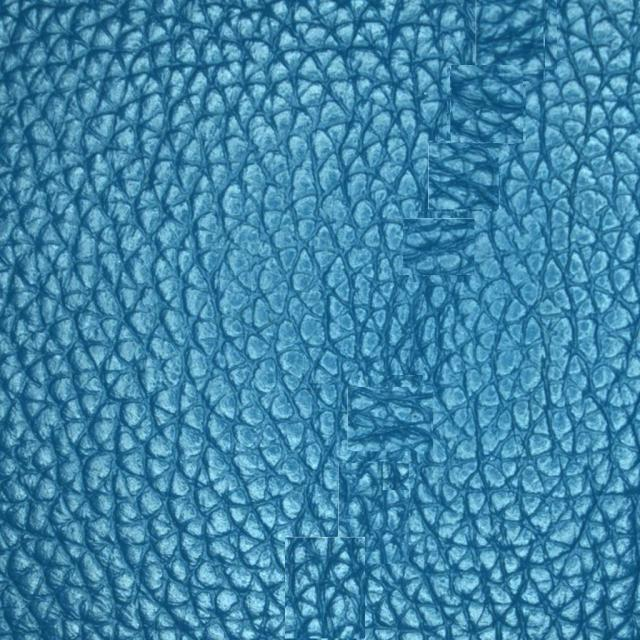Healed Injury: (302, 333, 488, 602), (408, 25, 564, 277)
